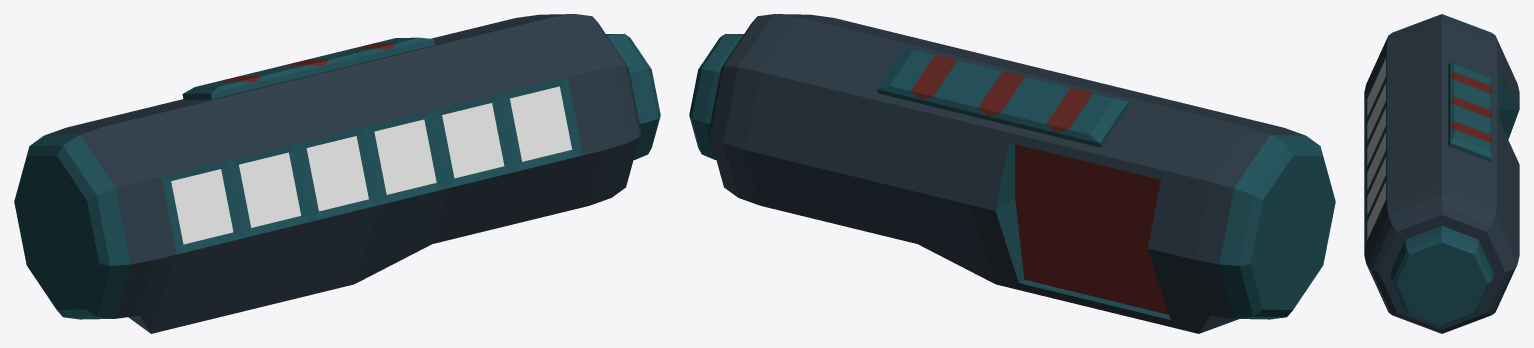
File: PropUpper.fbx
The picture shows the model from 3 angles, left to right: view 1: azimuth 30°, elevation 25°; view 2: azimuth 150°, elevation 25°; view 3: azimuth 270°, elevation 25°; orthographic projection. The views are drawn at different scales.
Visible parts, largest first — view 1: Cylinder; view 2: Cylinder; view 3: Cylinder.
Part boxes in pixels (x1,y1,x2,y2): Cylinder: [14, 14, 660, 333]; Cylinder: [689, 14, 1335, 333]; Cylinder: [1364, 14, 1519, 333].
Size of the model in its own units: 106 by 34.07 by 33.38.
